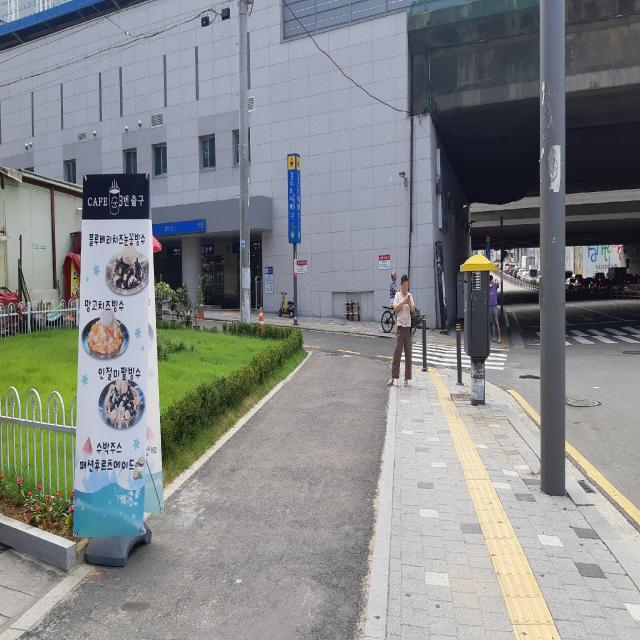횡단보도: (390, 341, 510, 371), (570, 325, 640, 345)
